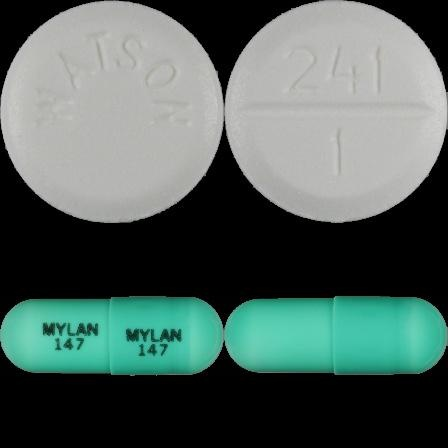67296-0306: (0, 0, 224, 224)
